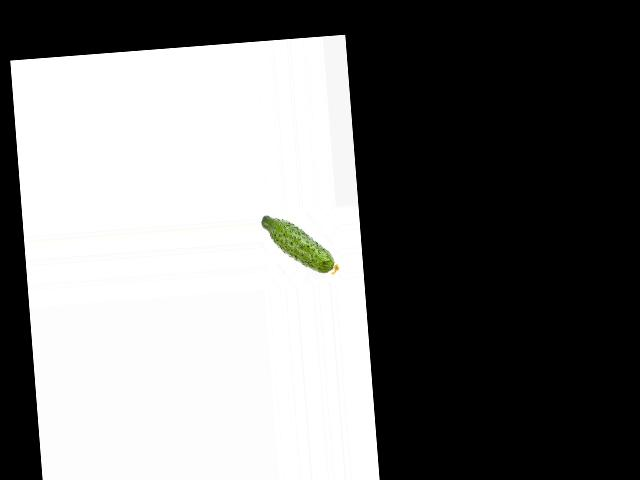cucumber: (261, 209, 339, 279)
